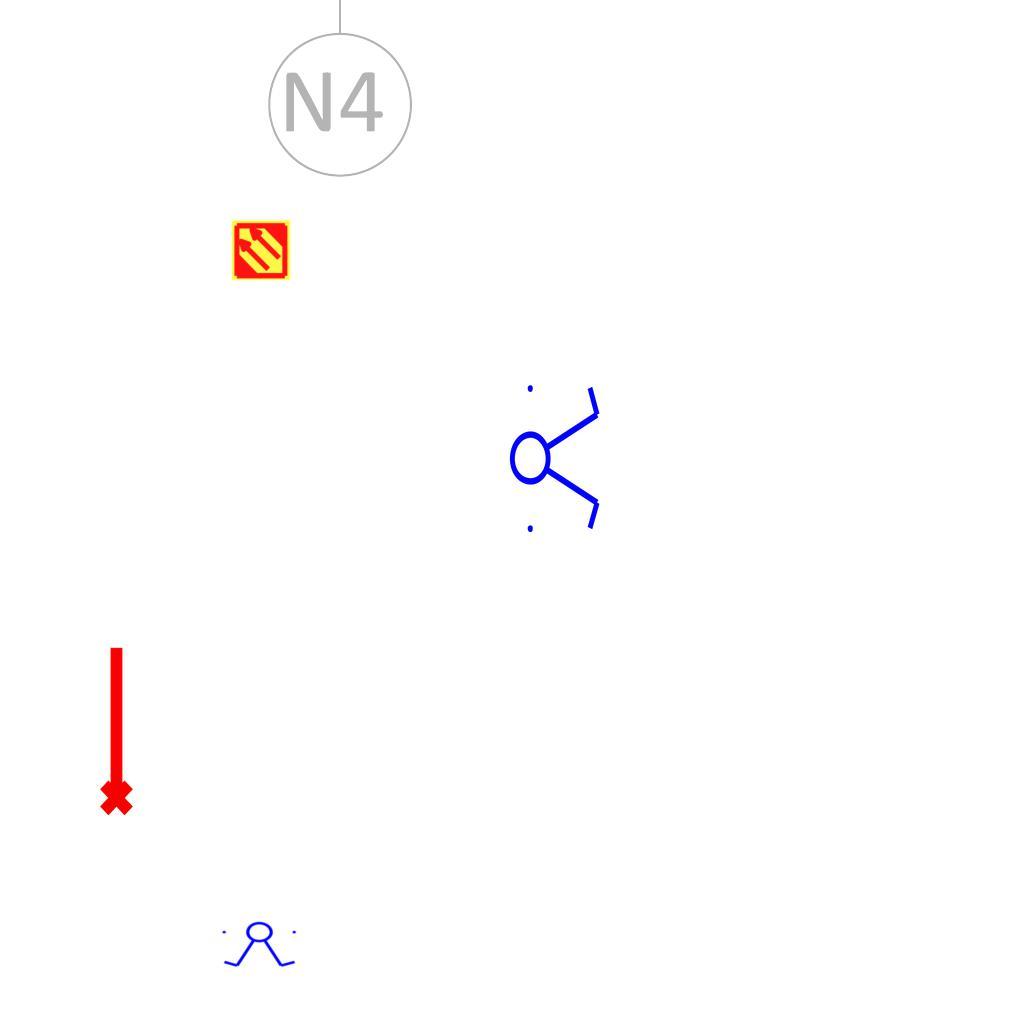ASR_Ansaugoeffnung: (91, 642, 137, 818)
ASR_Ansaugrauchmelder: (230, 219, 292, 281)
Serienschalter: (508, 373, 604, 541), (218, 921, 302, 969)
